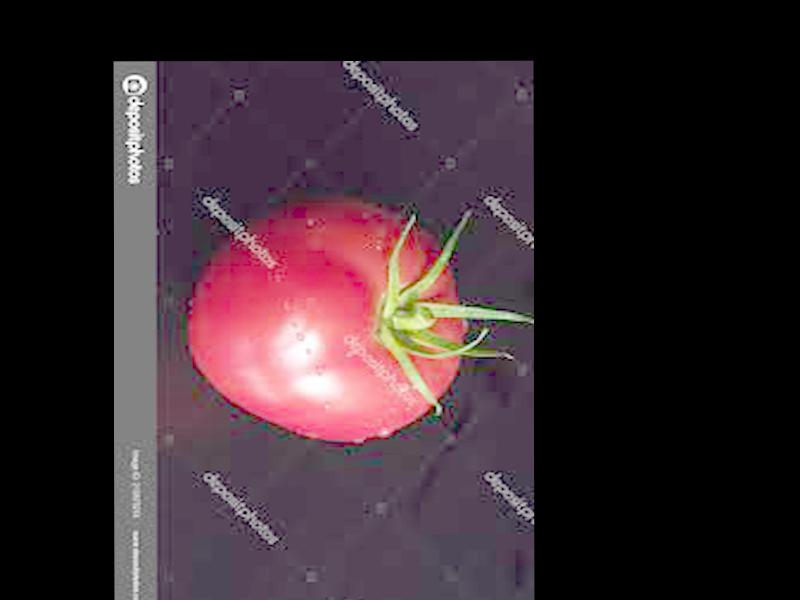Tomato: (189, 201, 465, 442)
